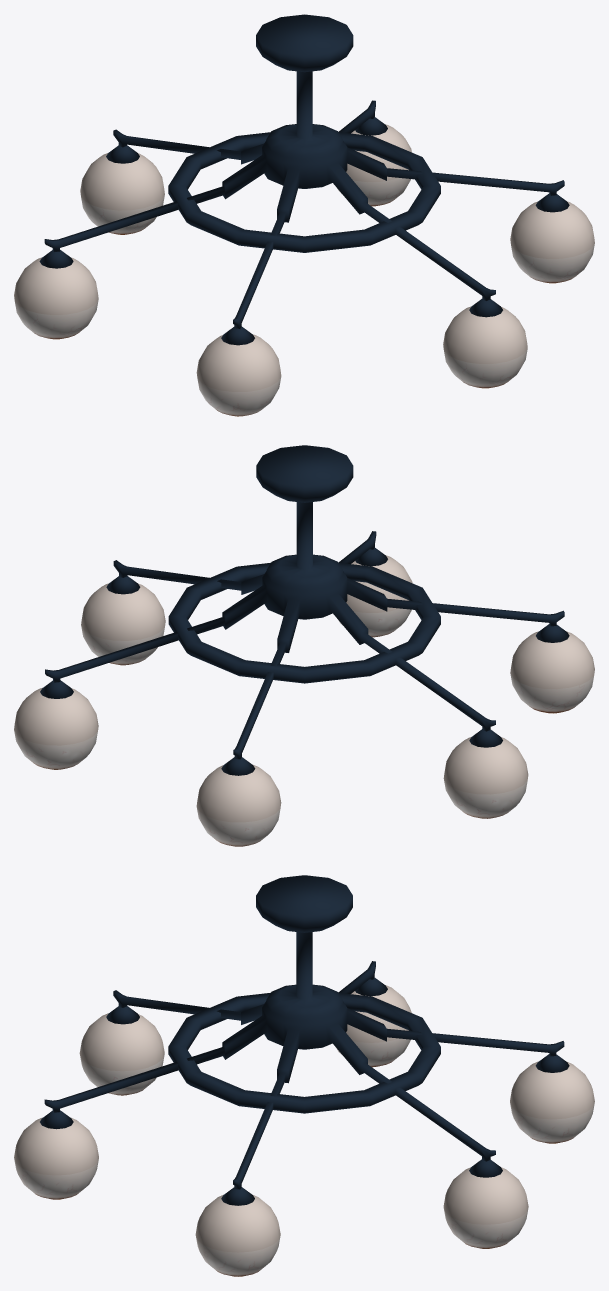
File: lamp.fbx
3 views of the same model, one above another, from view 1: azimuth 30°, elevation 25°; view 2: azimuth 150°, elevation 25°; view 3: azimuth 270°, elevation 25° (orthographic).
Visible parts, largest first — view 1: Cylinder001, Tube001, Sphere004.001, Sphere004.002, Sphere004, Sphere004.003, Sphere004.005, Sphere004.004; view 2: Cylinder001, Tube001, Sphere004.003, Sphere004.005, Sphere004.004, Sphere004.002, Sphere004, Sphere004.001; view 3: Cylinder001, Tube001, Sphere004.004, Sphere004, Sphere004.005, Sphere004.001, Sphere004.002, Sphere004.003.
Part boxes in pixels (left/top/right/bottom): Cylinder001: left=44, top=14, right=564, bottom=328; Tube001: left=168, top=132, right=440, bottom=252; Sphere004.001: left=443, top=306, right=527, bottom=388; Sphere004.002: left=196, top=334, right=281, bottom=416; Sphere004: left=510, top=201, right=594, bottom=283; Sphere004.003: left=14, top=257, right=98, bottom=339; Sphere004.005: left=80, top=153, right=164, bottom=234; Sphere004.004: left=337, top=124, right=411, bottom=206; Cylinder001: left=45, top=445, right=564, bottom=759; Tube001: left=168, top=562, right=440, bottom=683; Sphere004.003: left=443, top=737, right=528, bottom=818; Sphere004.005: left=196, top=765, right=281, bottom=846; Sphere004.004: left=14, top=687, right=98, bottom=769; Sphere004.002: left=510, top=631, right=594, bottom=713; Sphere004: left=81, top=583, right=165, bottom=665; Sphere004.001: left=338, top=555, right=412, bottom=637; Cylinder001: left=44, top=875, right=564, bottom=1189; Tube001: left=168, top=993, right=440, bottom=1113; Sphere004.004: left=443, top=1167, right=528, bottom=1248; Sphere004: left=195, top=1195, right=280, bottom=1276; Sphere004.005: left=510, top=1061, right=594, bottom=1143; Sphere004.001: left=14, top=1117, right=98, bottom=1199; Sphere004.002: left=79, top=1013, right=164, bottom=1095; Sphere004.003: left=336, top=985, right=411, bottom=1067.
Bounding box in the file's own units: 2686 × 1391 × 2686.
2 materials, 1 textured.
